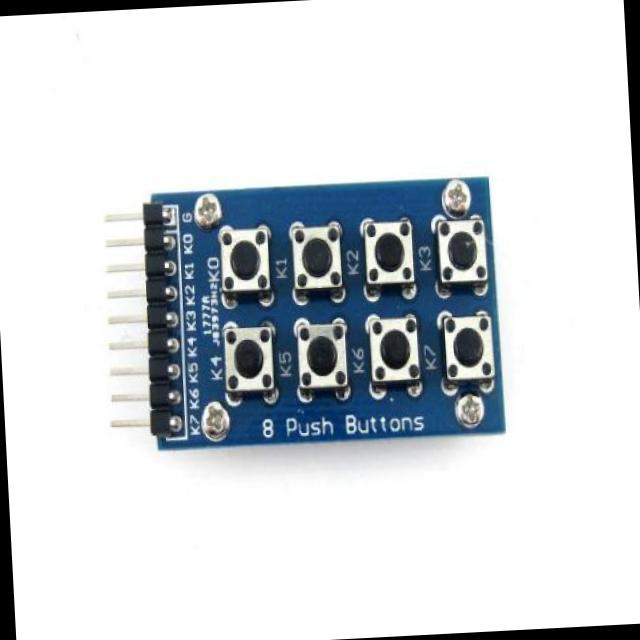connector: (98, 207, 188, 435)
